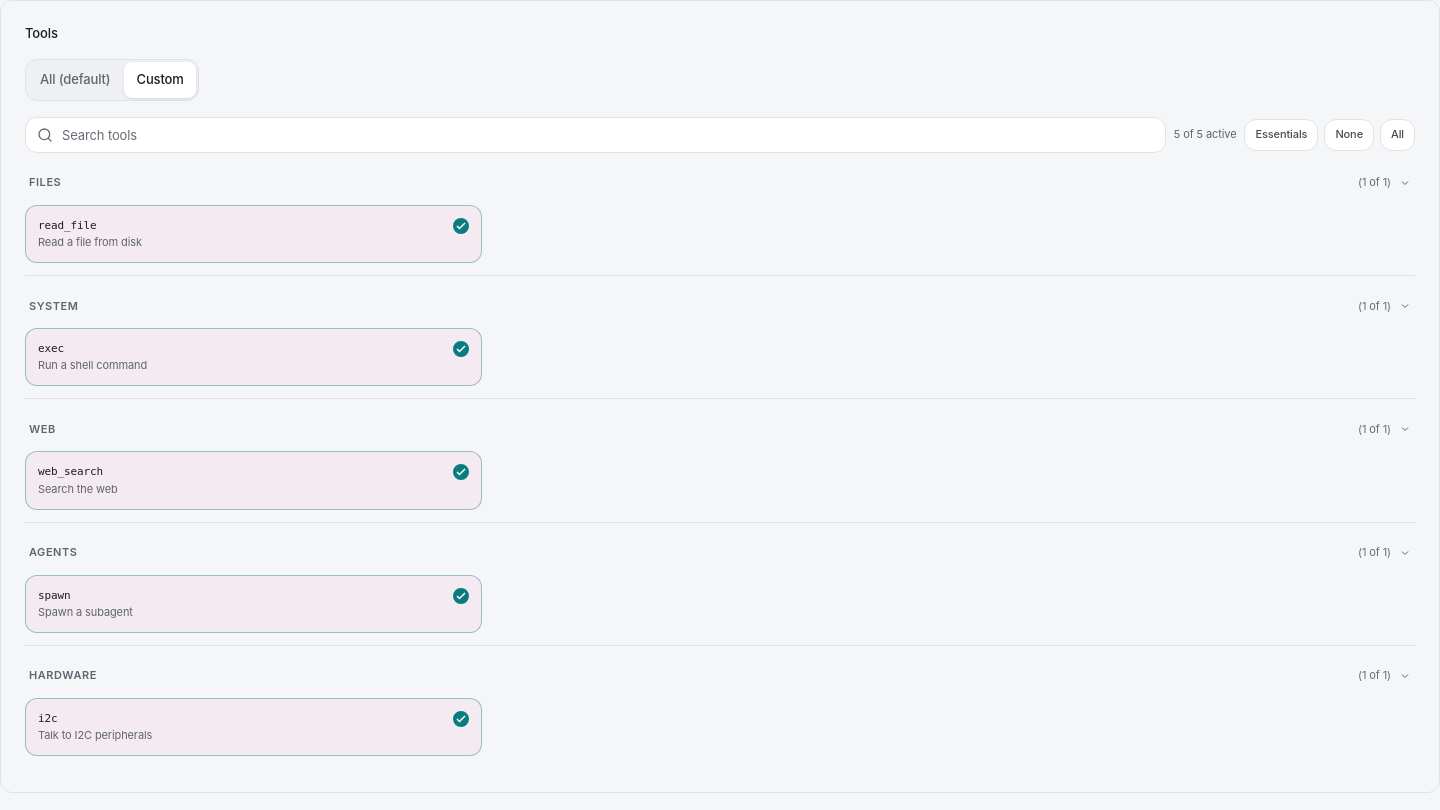
Test: AgentToolsSection — categories and search (§4.6.4, §4.6.5) › search hides groups without hits and force-expands those with them
# Collapse Files first: a search must override the user's collapse.
Click the button "Files (1 of 1)" at coordinates (45, 182), box [25,165,1415,201]
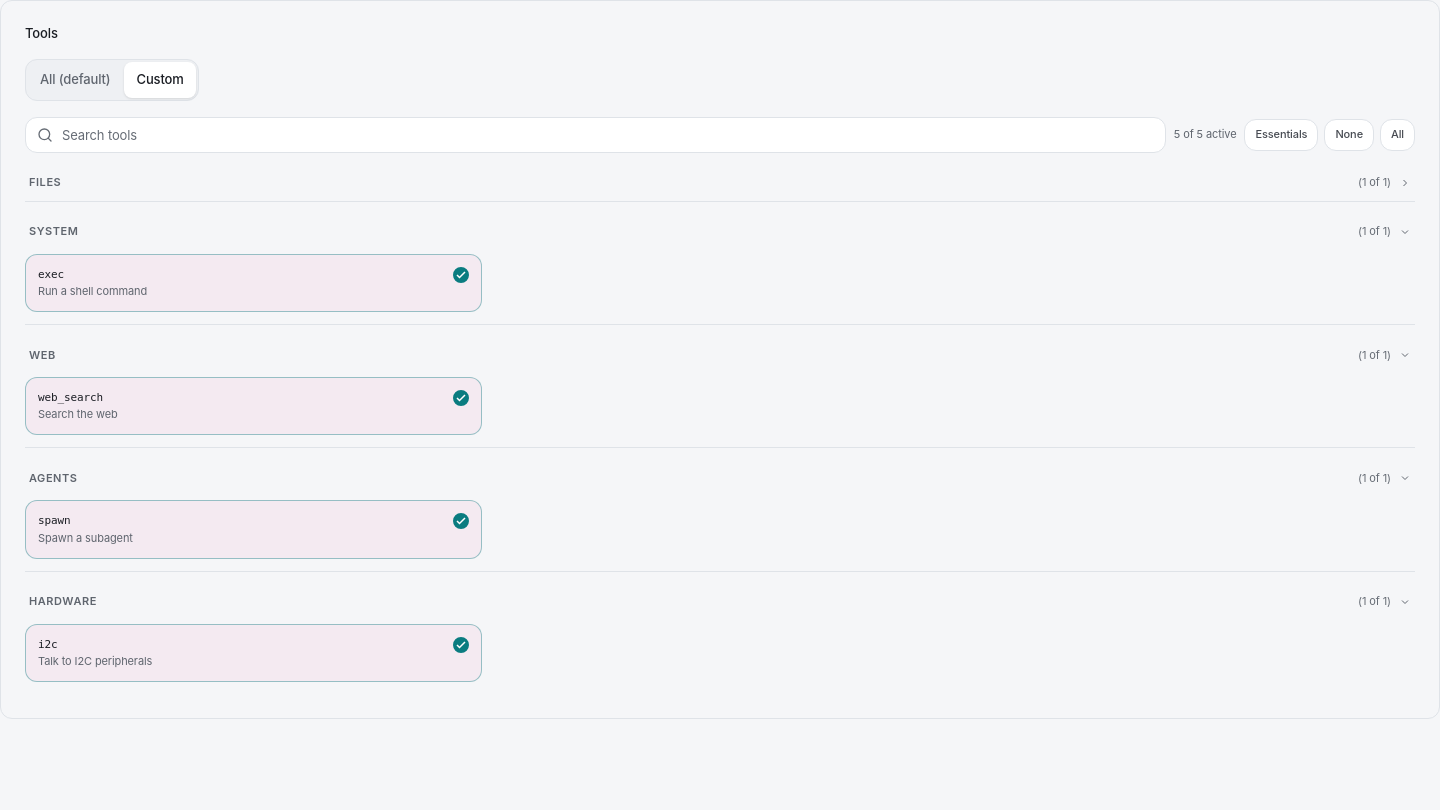
Type "read" into the search field with test id "tools-search" at coordinates (595, 135), box [25,117,1166,153]
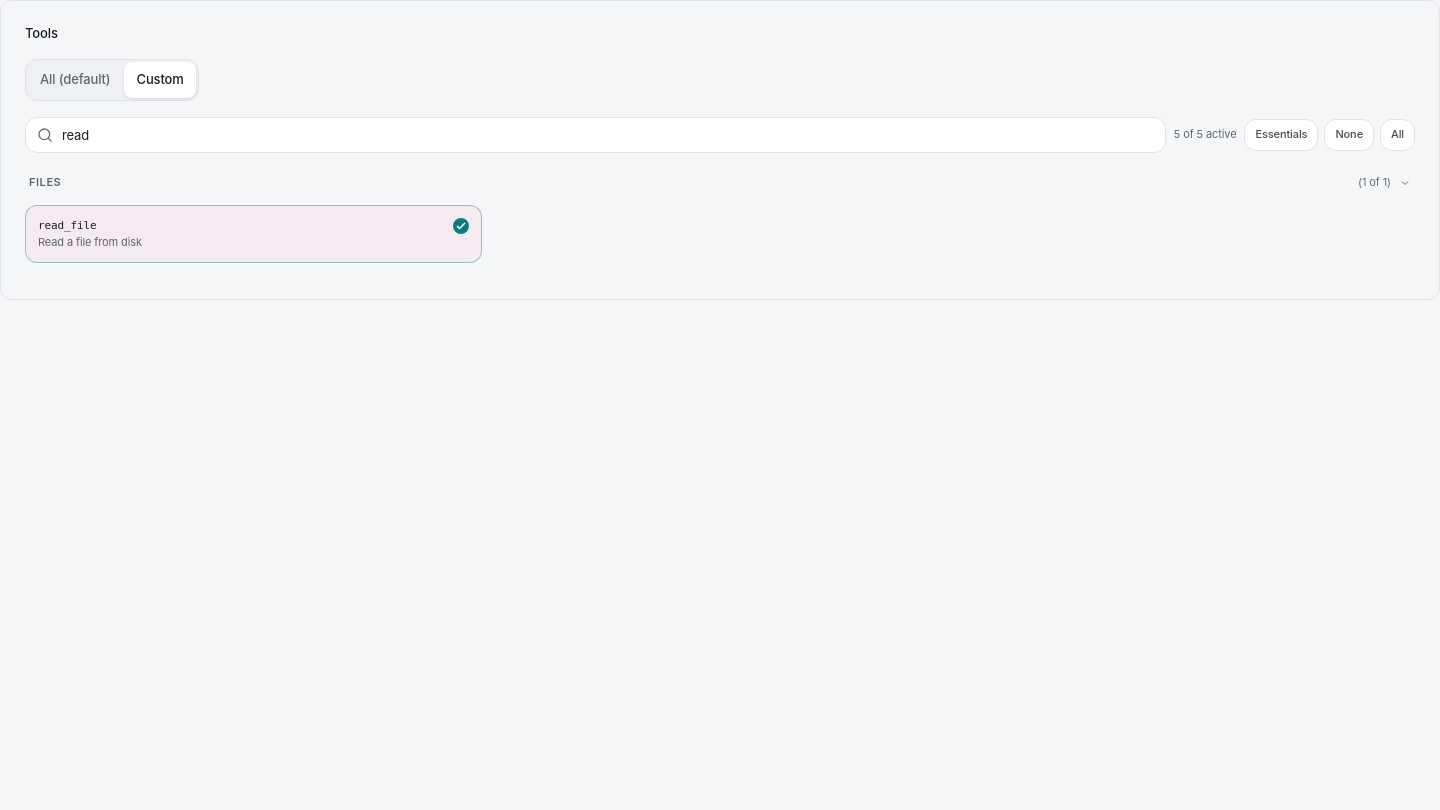
expect the text "Files" is shown: met, box [29,175,61,190]
expect the button "Hardware" is gone: met
